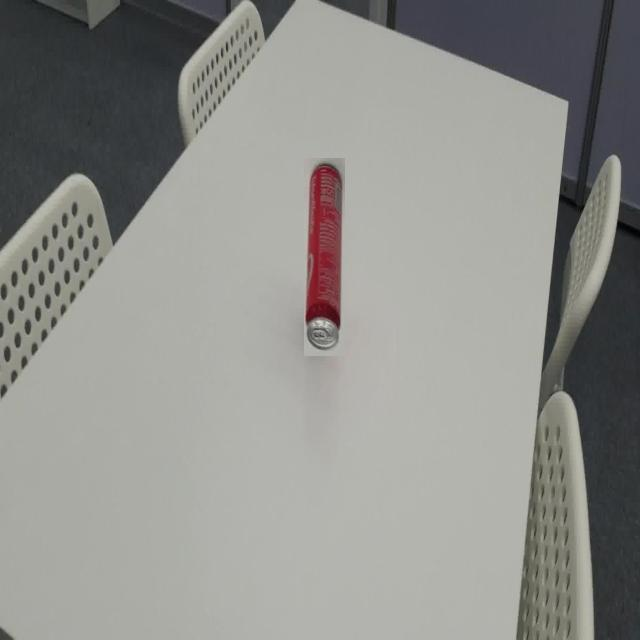coca-cola: (304, 158, 345, 356)
